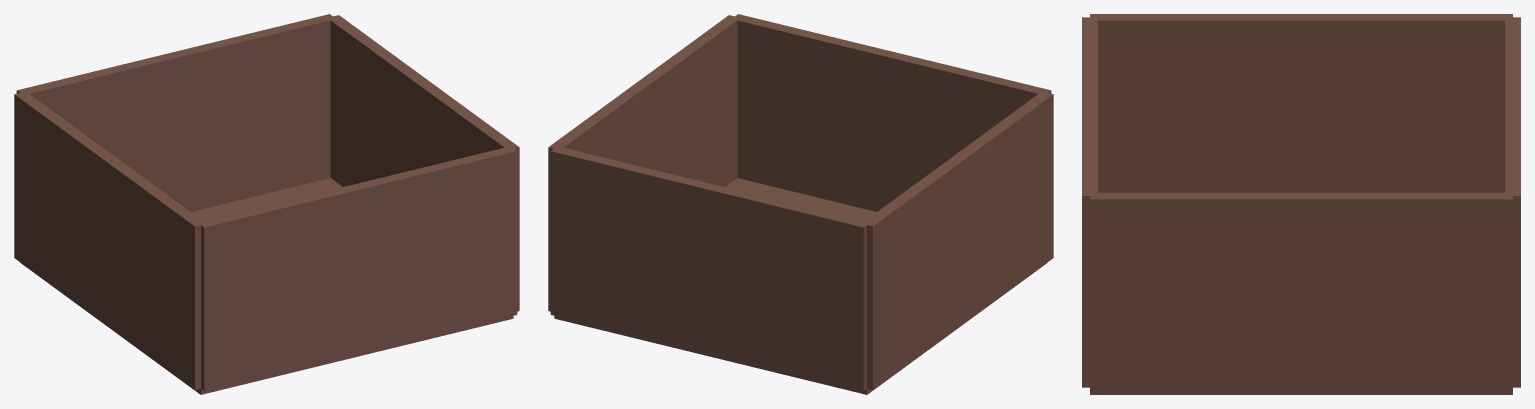
File: optimization-box.glb
3 renders of one model, left to right at view 1: azimuth 30°, elevation 25°; view 2: azimuth 150°, elevation 25°; view 3: azimuth 270°, elevation 25°, orthographic. The views are drawn at different scales.
Bounding box in the file's own units: 0.83 × 0.415 × 0.83.
